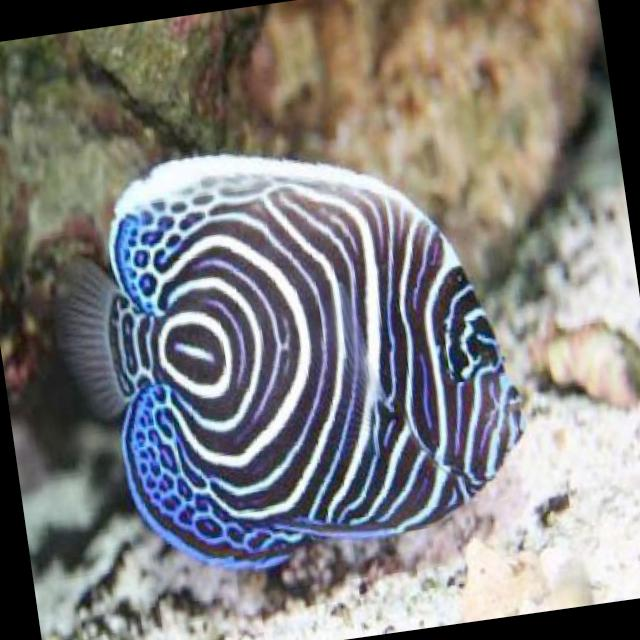AngelFish: (55, 117, 540, 586)
